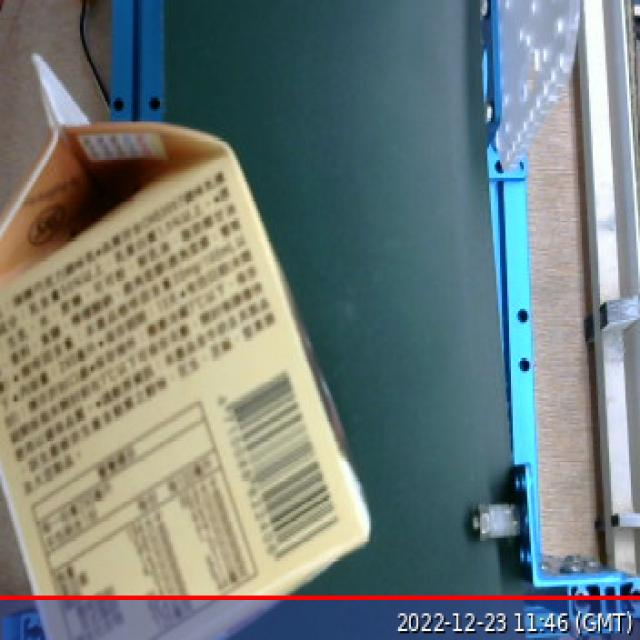non_white_jug: (0, 50, 391, 640)
